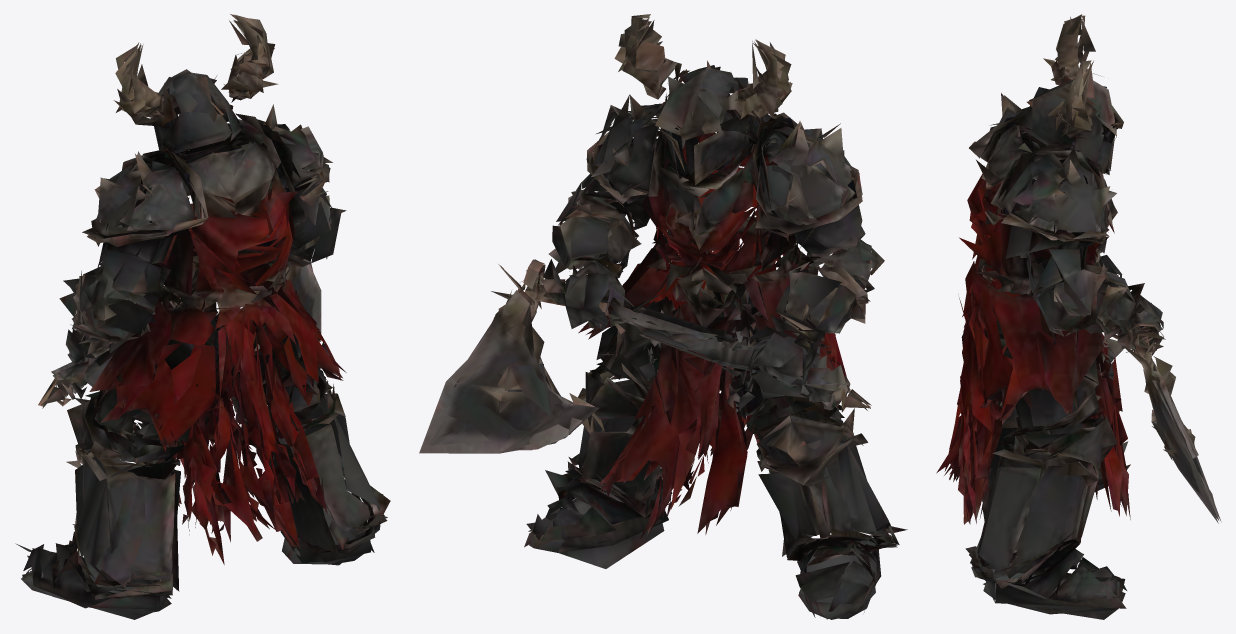
The model's file is black-warriors.lod1.glb.
3 renders of one model, left to right at view 1: azimuth 30°, elevation 25°; view 2: azimuth 150°, elevation 25°; view 3: azimuth 270°, elevation 25°, orthographic. The views are drawn at different scales.
Parts seen in each view (by area): view 1: chaos-warriors; view 2: chaos-warriors; view 3: chaos-warriors.
Part boxes in pixels (x1=…): chaos-warriors: x1=15, y1=14, x2=390, y2=619; chaos-warriors: x1=419, y1=14, x2=907, y2=619; chaos-warriors: x1=936, y1=14, x2=1221, y2=619.
Bounding box in the file's own units: 0.4014 × 0.5721 × 0.2833.
1 material, 1 textured.
